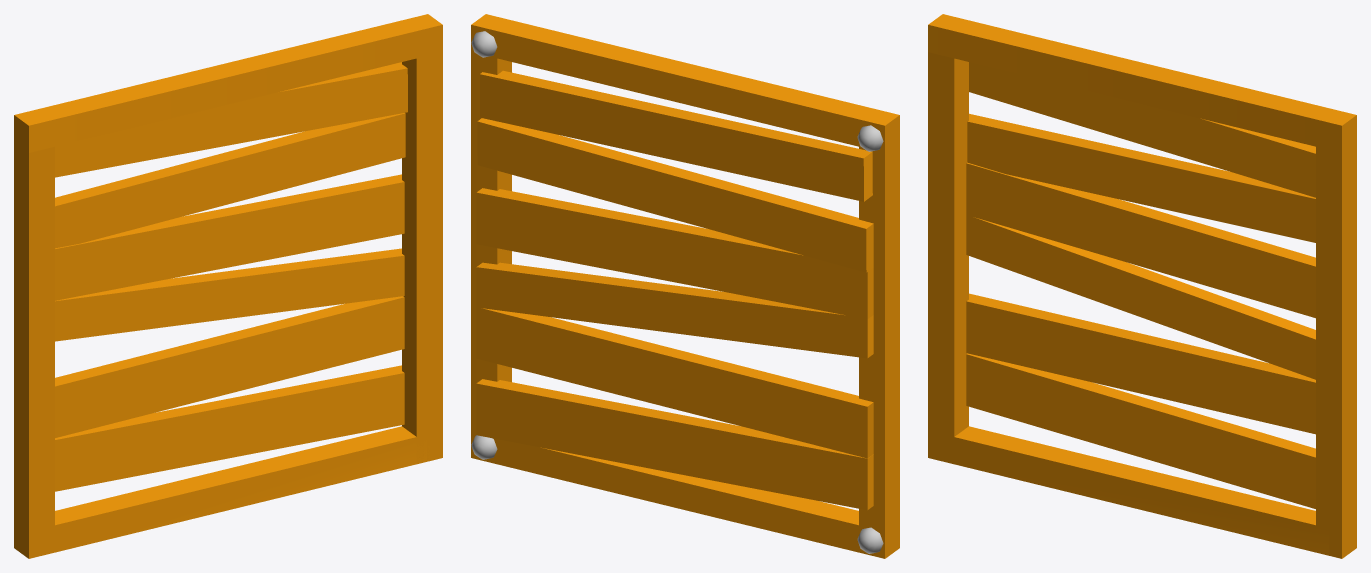
The model's file is Wood_barrier_2.fbx.
3 views of the same model, side by side, from view 1: azimuth 30°, elevation 25°; view 2: azimuth 150°, elevation 25°; view 3: azimuth 330°, elevation 25° (orthographic).
Parts seen in each view (by area): view 1: Wood_barrier_2; view 2: Wood_barrier_2; view 3: Wood_barrier_2.
Part boxes in pixels (<box>): Wood_barrier_2: <box>14,14,442,558</box>; Wood_barrier_2: <box>471,14,899,558</box>; Wood_barrier_2: <box>928,14,1356,558</box>.
Size of the model in its own units: 3.2 by 3.2 by 0.33.
1 material, 1 textured.
